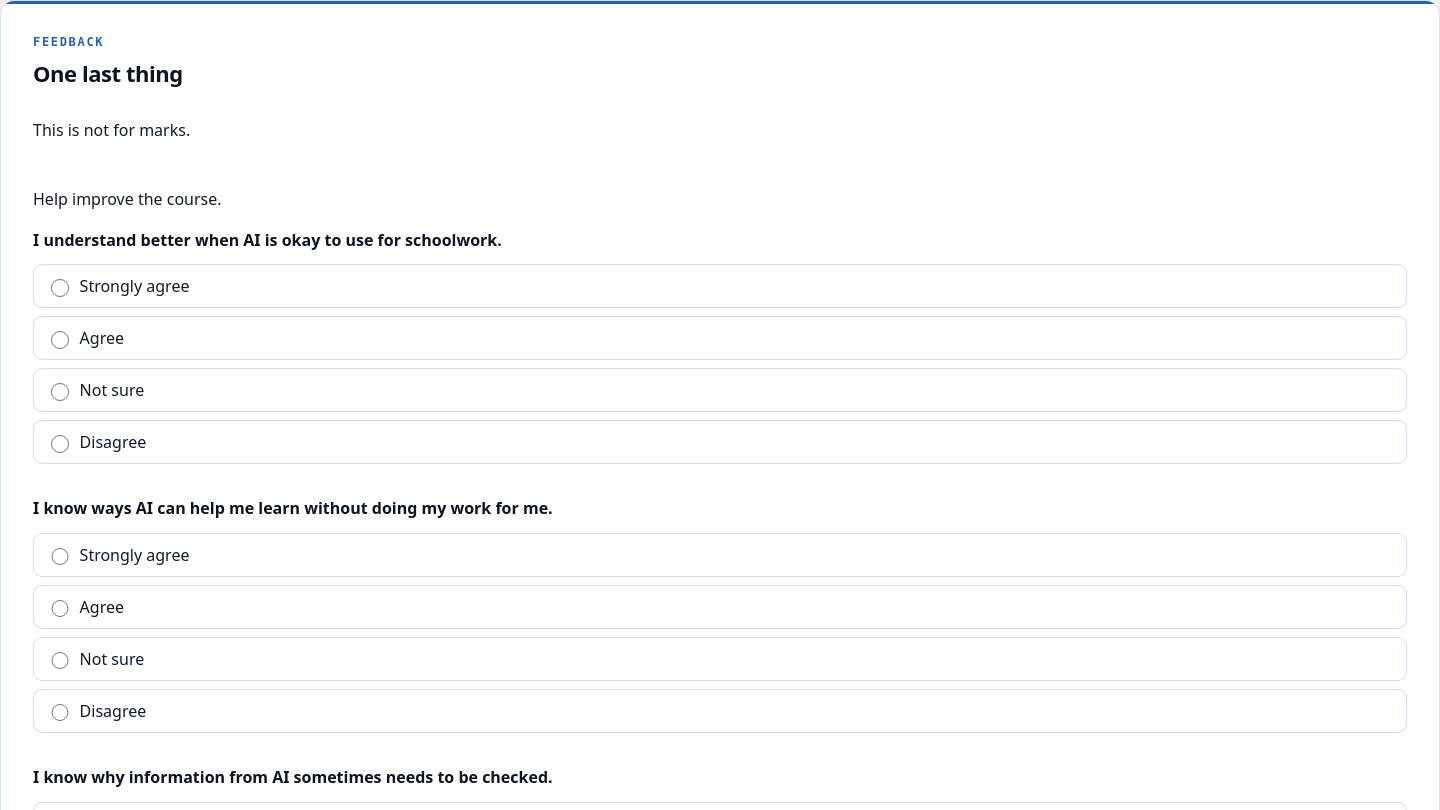
Scenario: exit survey submission › still records completion when the submission fails
This screenshot has width=1440, height=810.
Click the 1st radio button labelled "Strongly agree" at coordinates (60, 288), box [51,279,69,297]
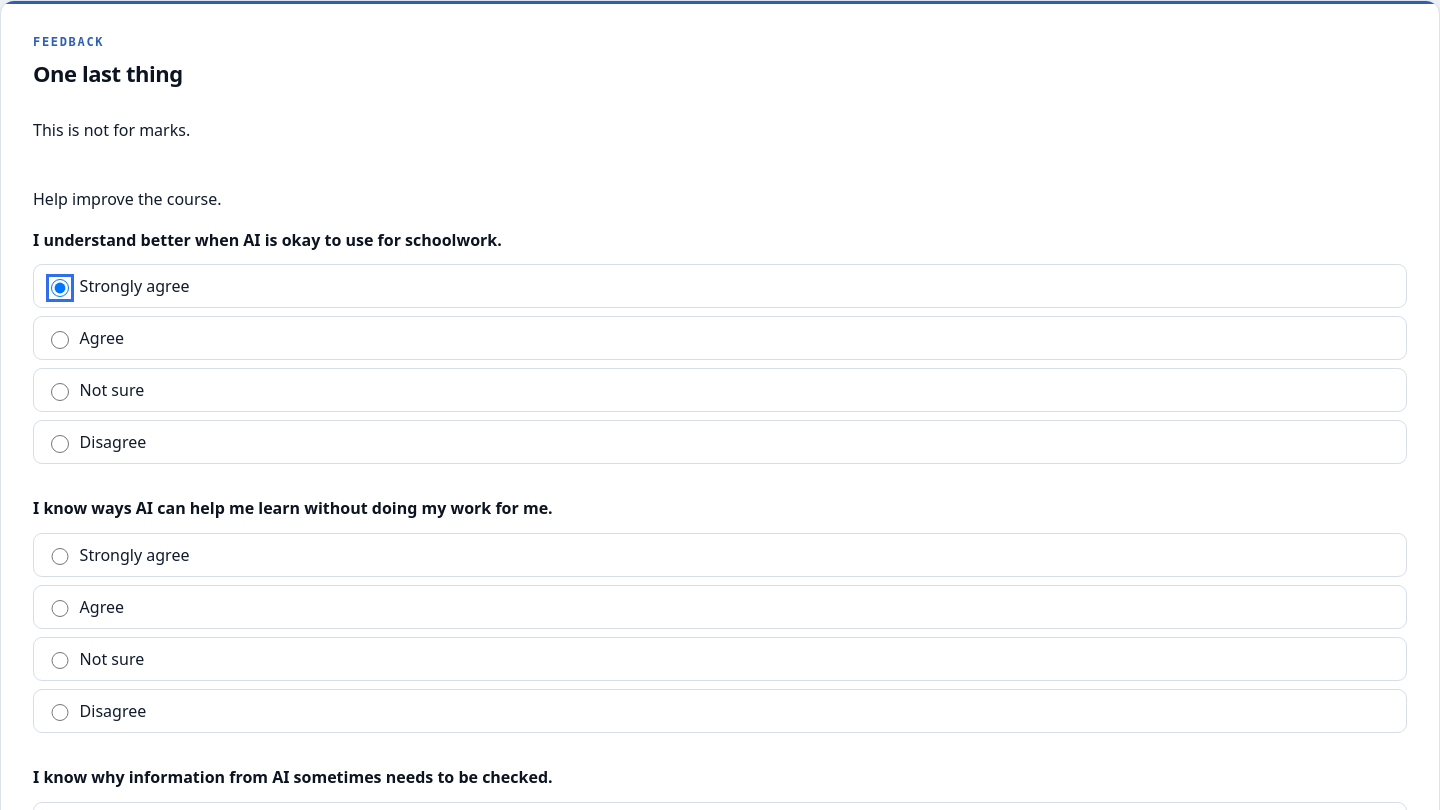
Click the 2nd radio button labelled "Strongly agree" at coordinates (60, 557), box [51,548,69,566]
(page scrolled)
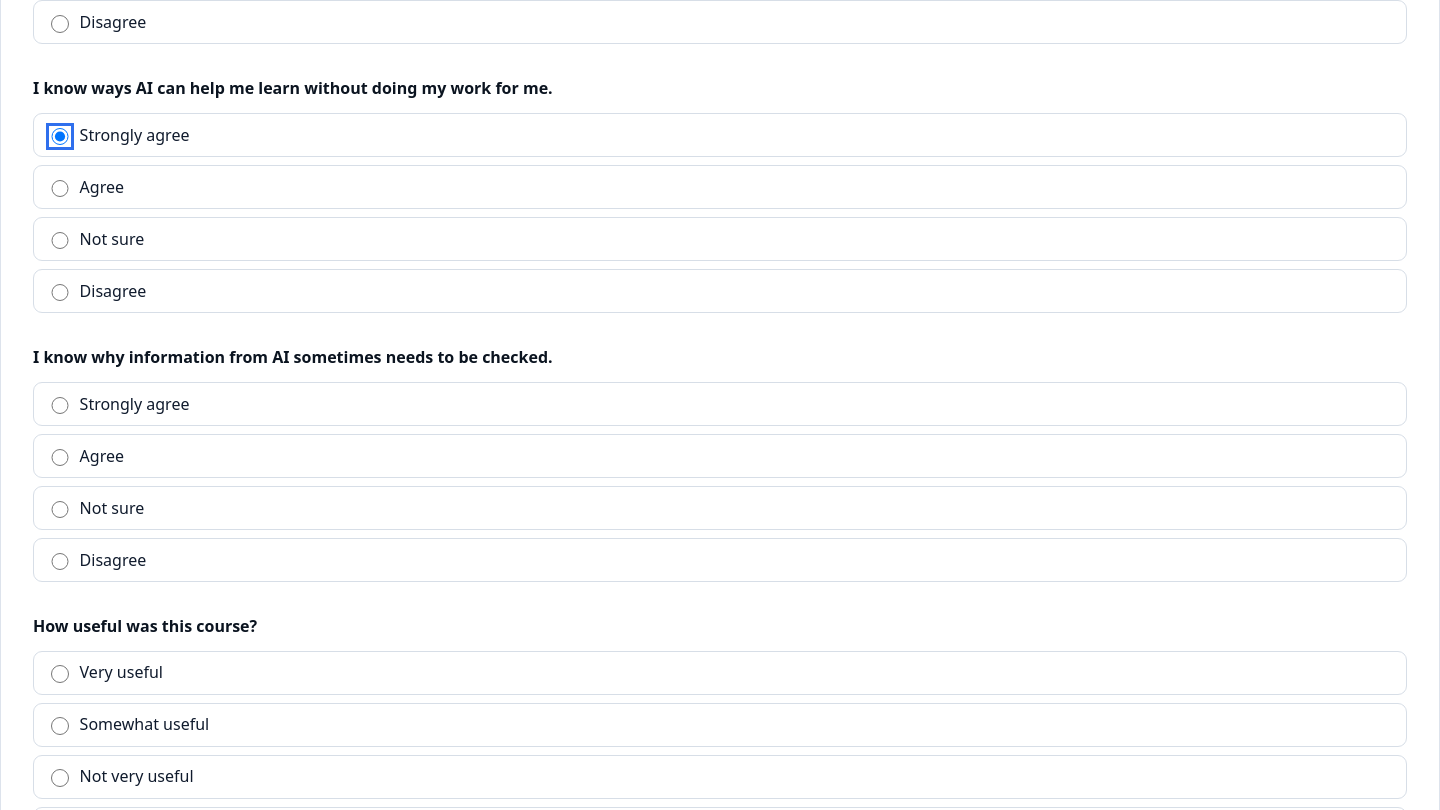
Click the 2nd radio button labelled "Strongly agree" at coordinates (60, 406), box [51,397,69,414]
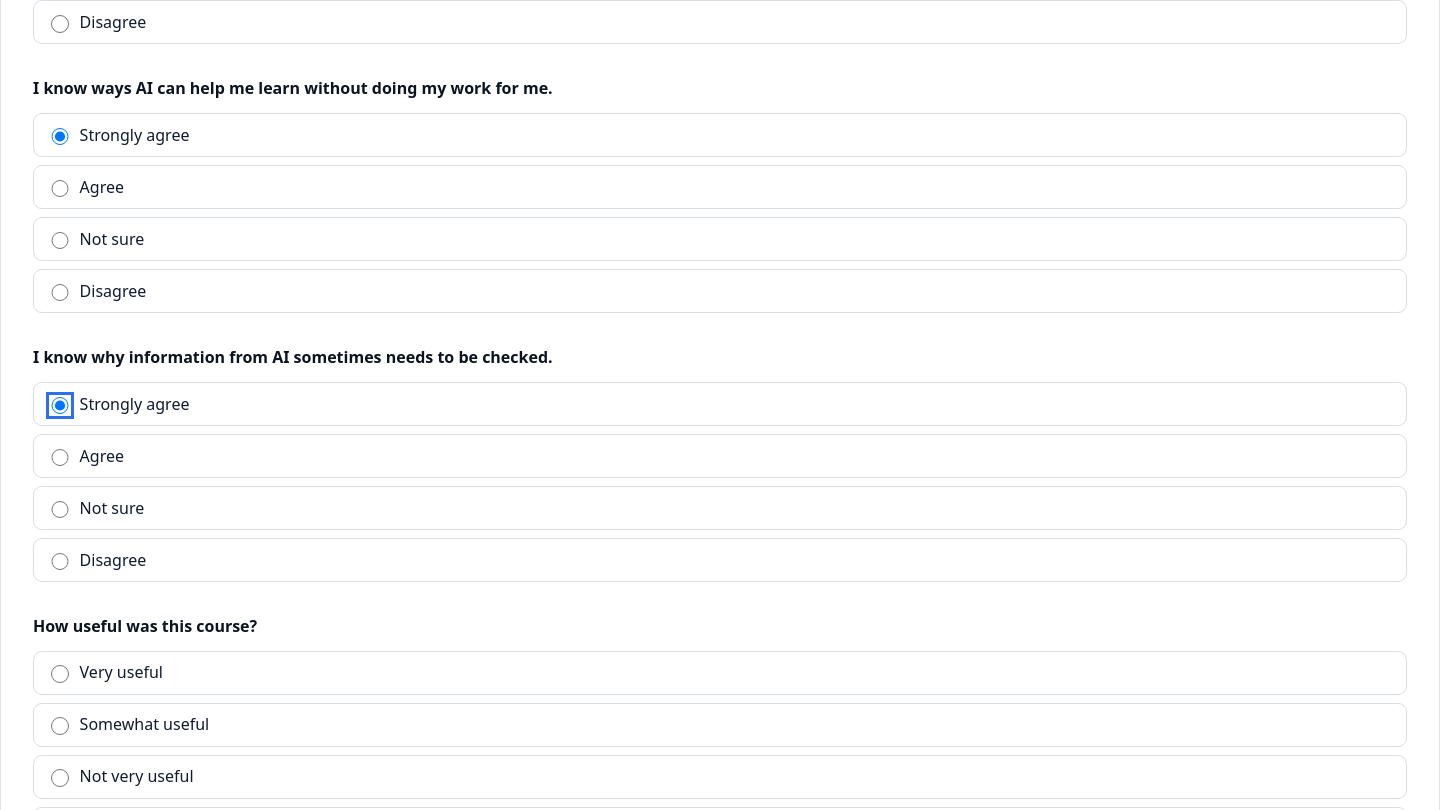
Click the radio button labelled "Very useful" at coordinates (60, 674), box [51,666,69,683]
(page scrolled)
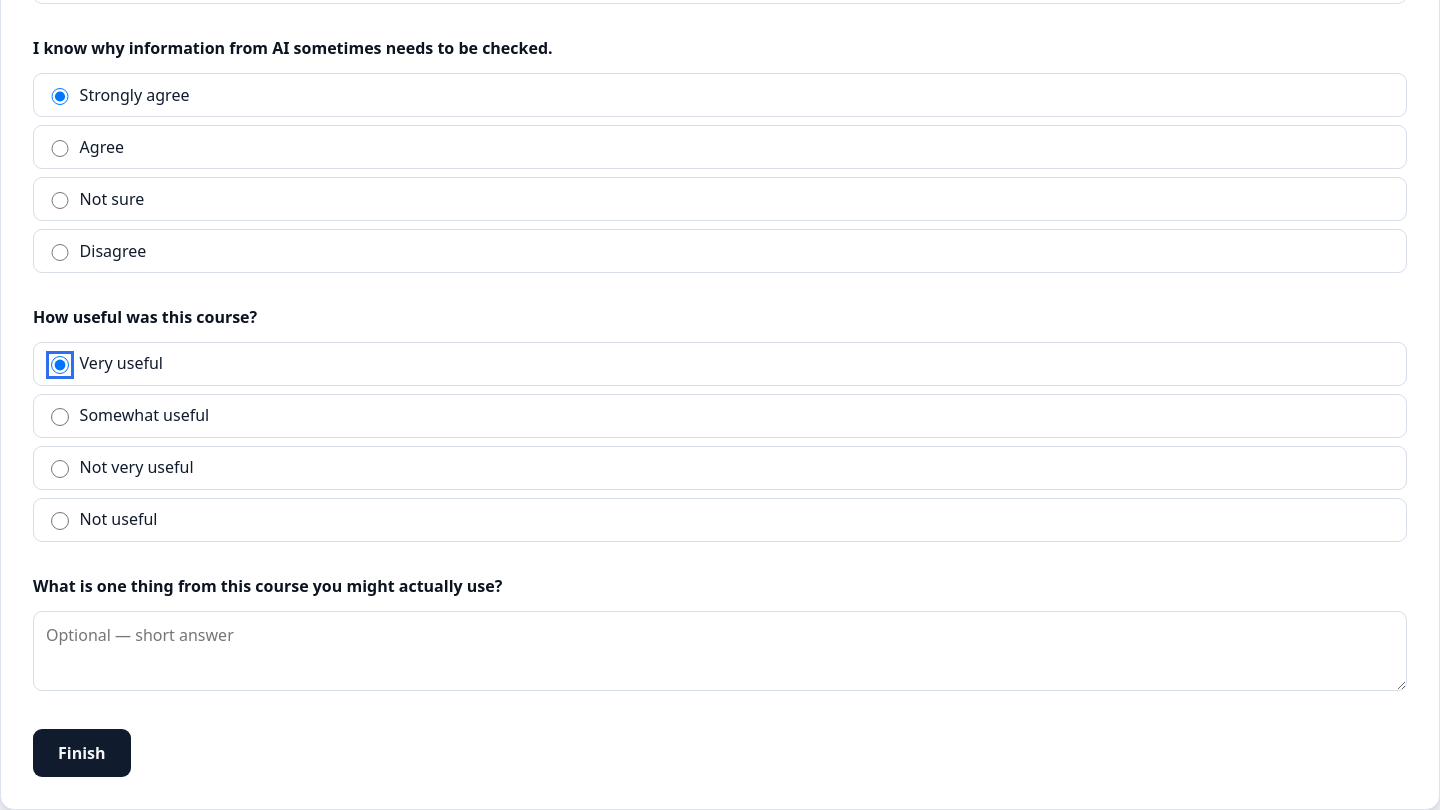
Click the button "Finish" at coordinates (82, 753), box [33,729,130,777]
(page scrolled)
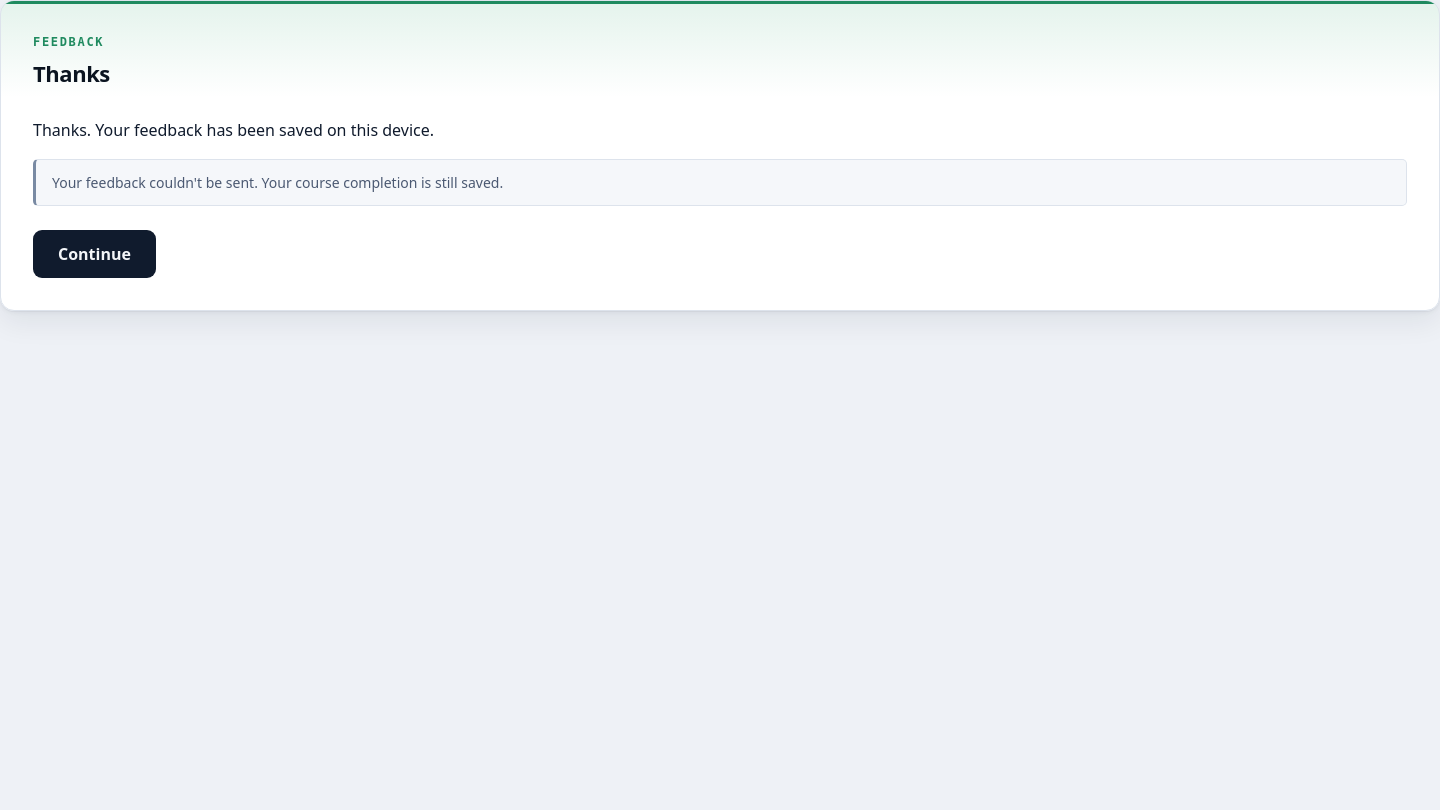
Expected: the button "Continue" is enabled, [33,230,156,278]
Expected: the text "Your feedback couldn't be sent. Your course completion is still saved." is shown, [33,159,1407,206]
Expected: the text "Thanks. Your feedback has been saved on this device." is shown, [33,119,434,141]
